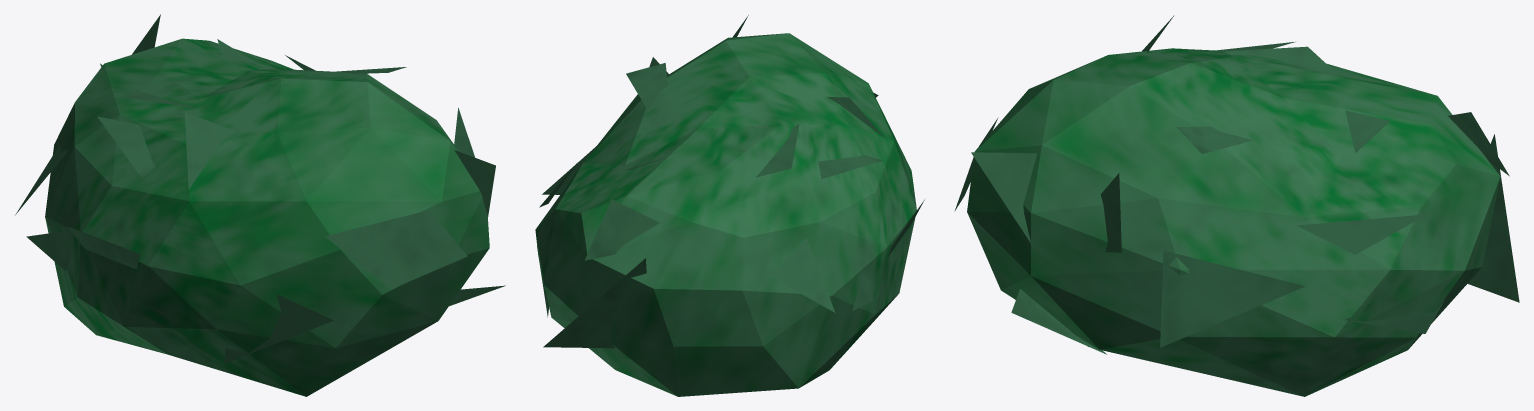
File: Bush1.fbx
The picture shows the model from 3 angles, left to right: view 1: azimuth 30°, elevation 25°; view 2: azimuth 150°, elevation 25°; view 3: azimuth 270°, elevation 25°; orthographic projection. The views are drawn at different scales.
Visible parts, largest first — view 1: Bush1; view 2: Bush1; view 3: Bush1.
Part boxes in pixels (x1=…): Bush1: x1=15, y1=14, x2=505, y2=396; Bush1: x1=535, y1=15, x2=924, y2=396; Bush1: x1=954, y1=15, x2=1519, y2=396.
Bounding box in the file's own units: 0.9404 × 0.6595 × 1.21.
